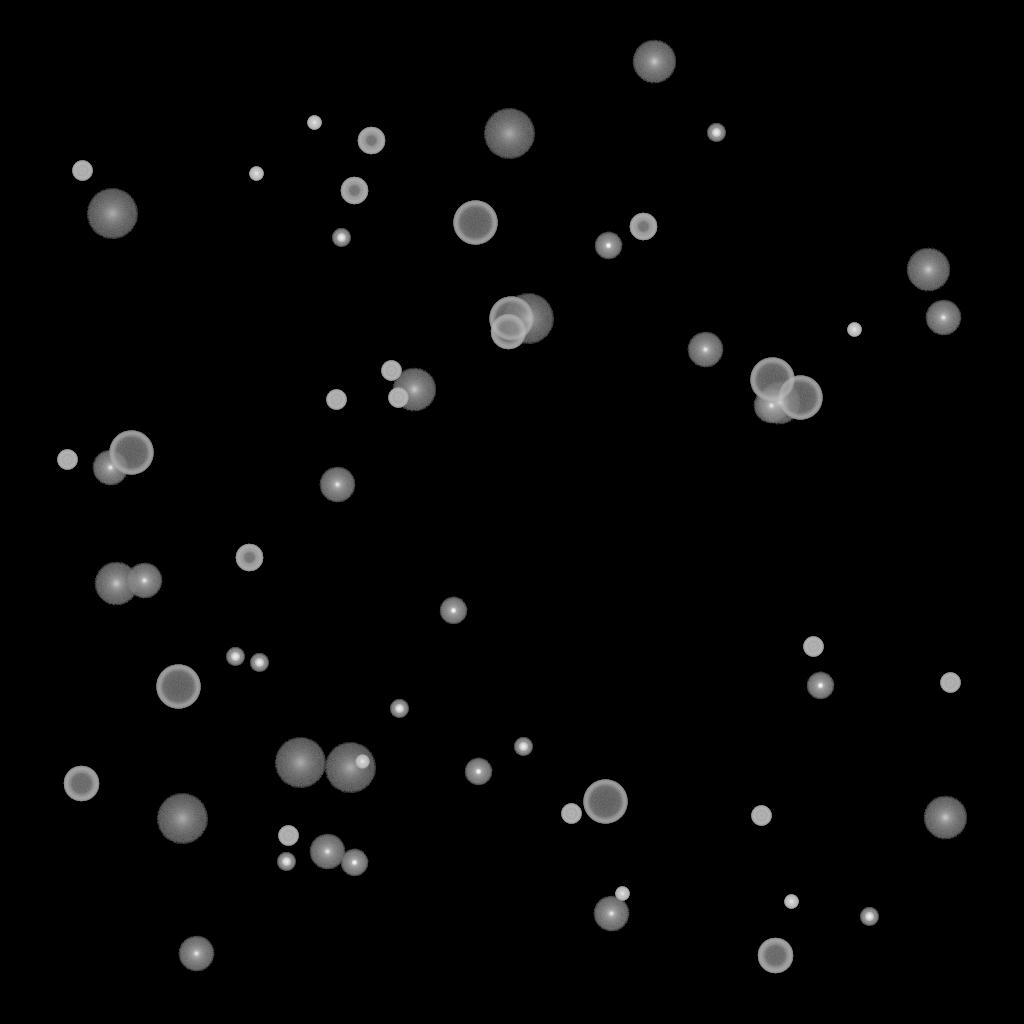depth:-10: (806, 672, 834, 700), (340, 849, 368, 877), (464, 758, 492, 786), (594, 232, 622, 260), (439, 597, 467, 625)
depth:-20: (860, 908, 878, 926), (226, 648, 244, 666), (390, 700, 408, 718), (514, 738, 532, 756), (250, 654, 268, 672), (332, 229, 350, 247), (707, 124, 725, 142), (277, 853, 295, 871)
depth:-30: (847, 323, 861, 337), (249, 167, 263, 181), (784, 895, 798, 909), (307, 116, 321, 130), (615, 887, 629, 901), (355, 755, 369, 769)
depth:-40: (57, 450, 77, 470), (751, 806, 771, 826), (561, 804, 581, 824), (940, 673, 960, 693), (278, 826, 298, 846), (803, 637, 823, 657), (388, 388, 408, 408), (381, 361, 401, 381), (72, 161, 92, 181), (326, 390, 346, 410)
depth:-50: (340, 177, 368, 205), (357, 127, 385, 155), (235, 544, 263, 572), (629, 213, 657, 241)
depth:-60: (490, 314, 526, 350), (757, 938, 793, 974), (63, 766, 99, 802)
depth:-70: (489, 297, 533, 341), (156, 665, 200, 709), (453, 201, 497, 245), (750, 358, 794, 402), (583, 780, 627, 824), (778, 376, 822, 420), (109, 431, 153, 475)
depth:0: (319, 467, 355, 503), (753, 388, 789, 424), (309, 834, 345, 870), (593, 896, 629, 932), (687, 332, 723, 368), (925, 300, 961, 336), (178, 936, 214, 972), (126, 563, 162, 599), (92, 450, 128, 486)
depth:10: (757, 381, 801, 425), (632, 40, 676, 84), (94, 562, 138, 606), (906, 248, 950, 292), (392, 368, 436, 412), (923, 796, 967, 840)
depth:20: (502, 294, 554, 344), (483, 109, 535, 159), (86, 189, 138, 239), (156, 794, 208, 844), (274, 738, 326, 788), (324, 743, 376, 793)
